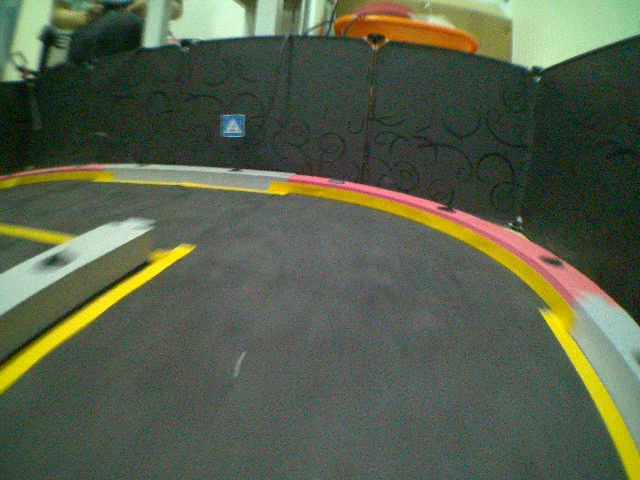crossing: (221, 114, 247, 140)
